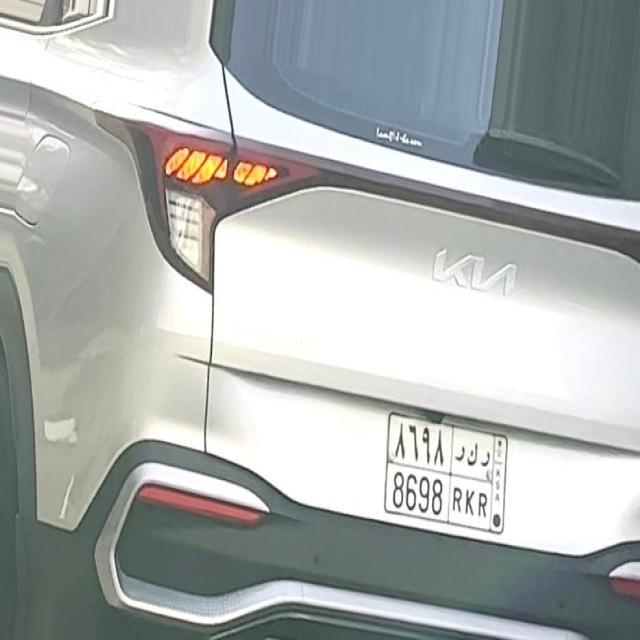Car-plate: (381, 403, 518, 548)
